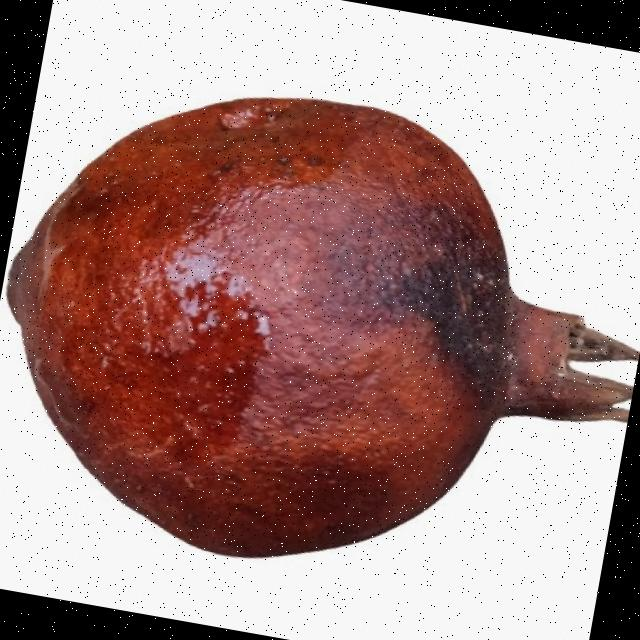Rotten: (0, 41, 640, 624)
